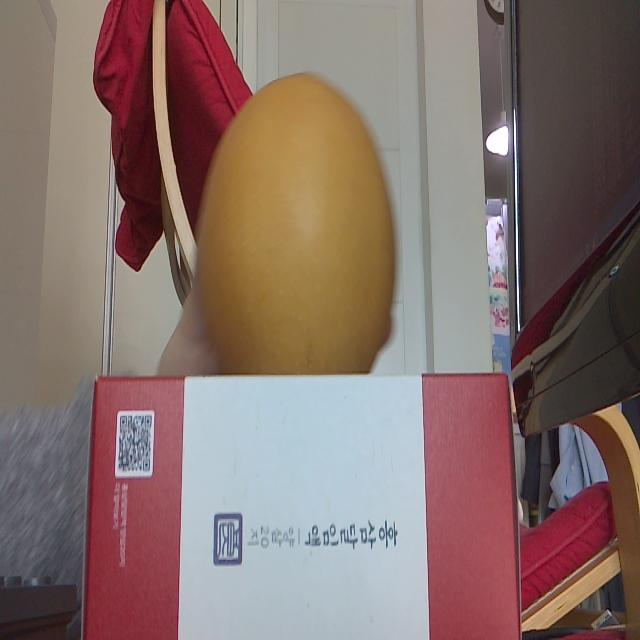pear: (200, 67, 402, 377)
